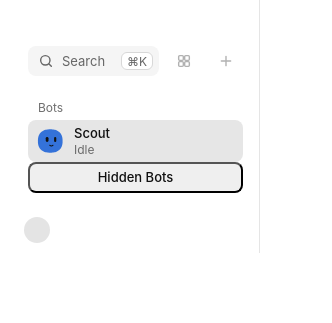
Scenario: bot-actions.ts error handling (fix round 1, finding 2) › surfaces a visible error and doesn't crash when Hide fails
The width and height of the screenshot is (332, 323).
Step 1. Right-click the link "Scout Idle" → (136,141), box [28,120,243,162]
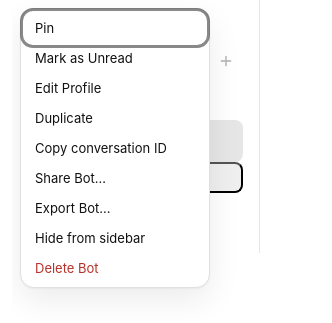
Step 2. Click the menu item "Hide from sidebar" → (115,238), box [25,223,205,253]
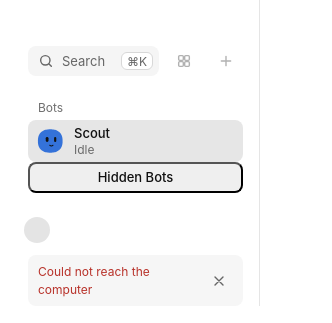
Expected: the message reads "Could not reach the computer", [38,264,150,297]
